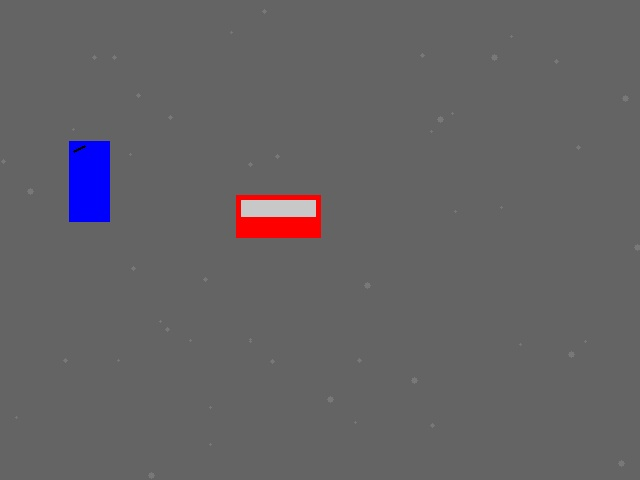car: (236, 195, 320, 237)
motorcycle: (69, 141, 109, 221)
